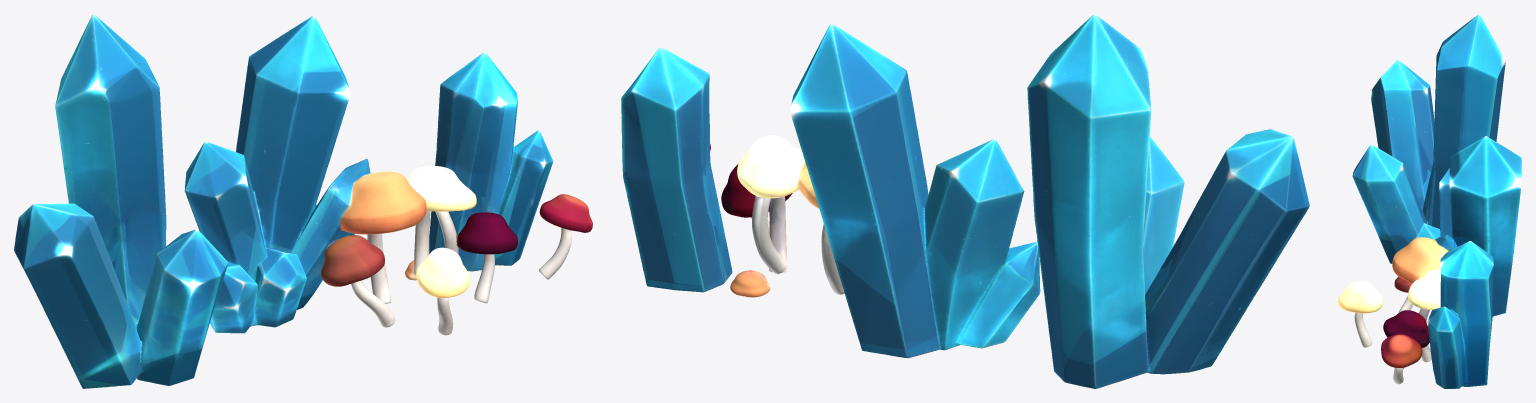
File: HONGUITOS (1).fbx
3 renders of one model, left to right at view 1: azimuth 30°, elevation 25°; view 2: azimuth 150°, elevation 25°; view 3: azimuth 270°, elevation 25°, orthographic. The views are drawn at different scales.
Visible parts, largest first — view 1: Mesh_0; view 2: Mesh_0; view 3: Mesh_0.
Part boxes in pixels (x1,y1,x2,y2): Mesh_0: (14,14,592,388); Mesh_0: (621,14,1309,388); Mesh_0: (1338,14,1521,388).
Size of the model in its own units: 190 by 105 by 73.57.
Materials: 1 (1 with a texture image).
